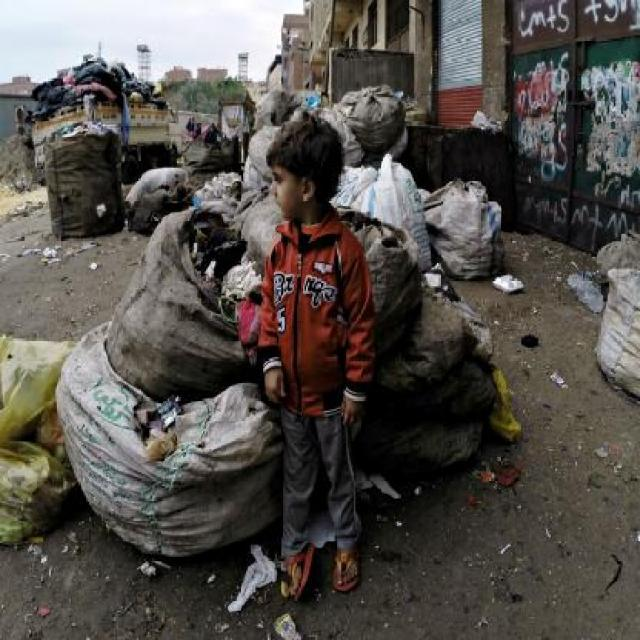garbage: (107, 260, 266, 617), (367, 230, 516, 476), (20, 65, 196, 226), (3, 329, 97, 539), (334, 103, 464, 200), (572, 237, 640, 392), (209, 85, 266, 220), (471, 105, 502, 138)
